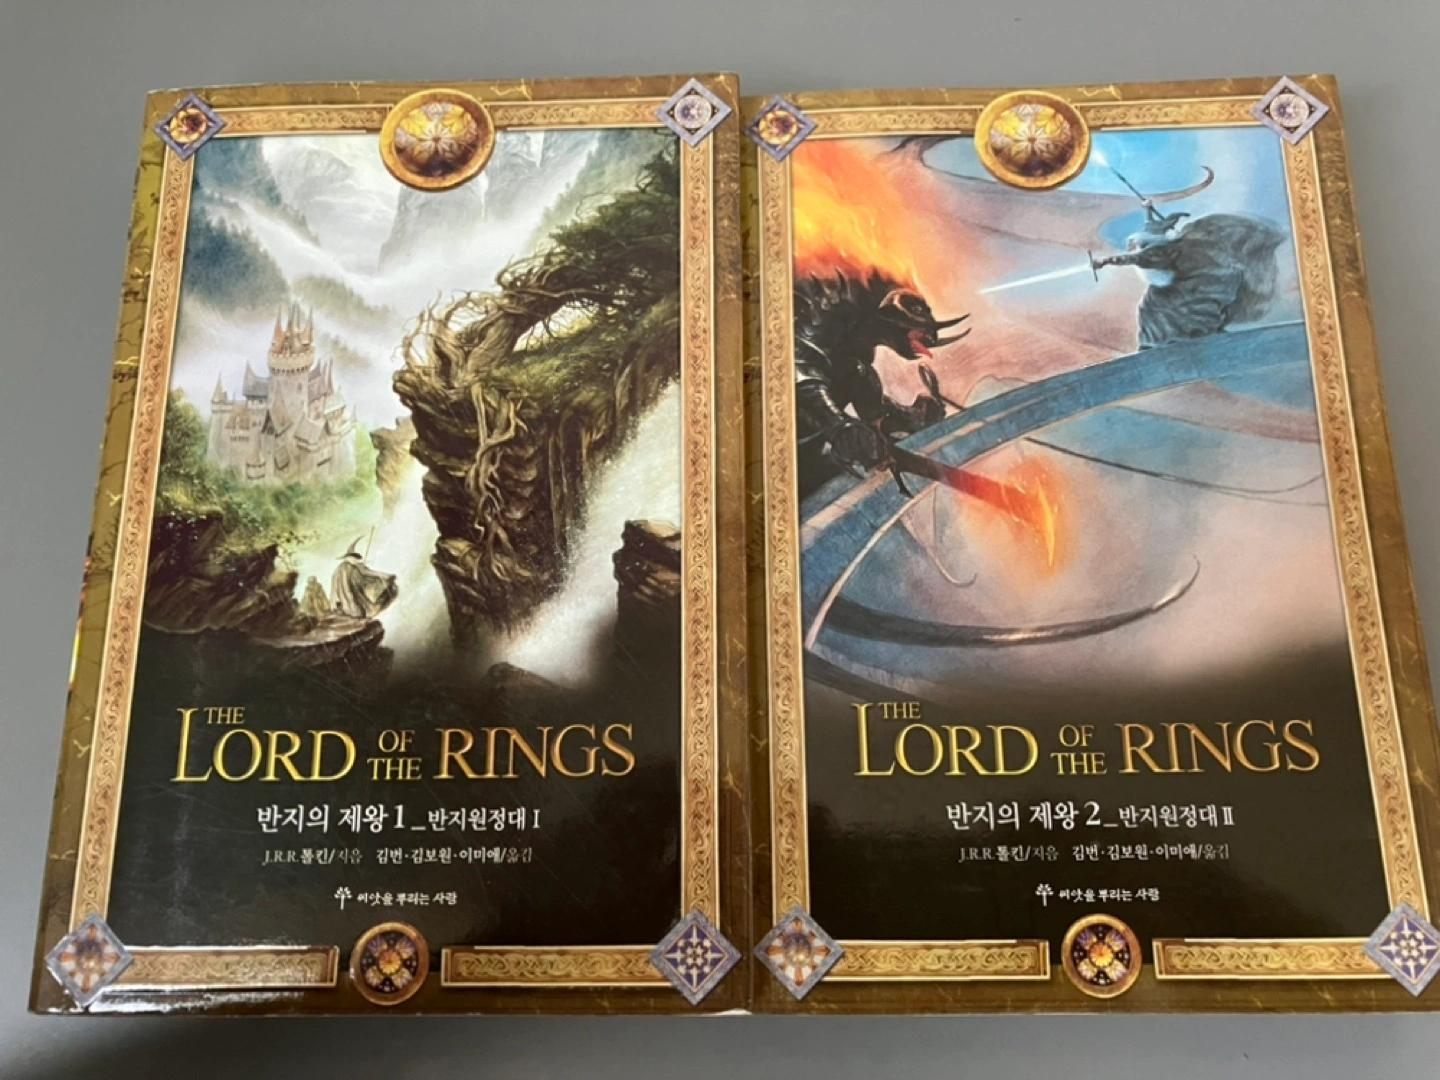book: (17, 67, 749, 1020), (745, 71, 1440, 1006)
